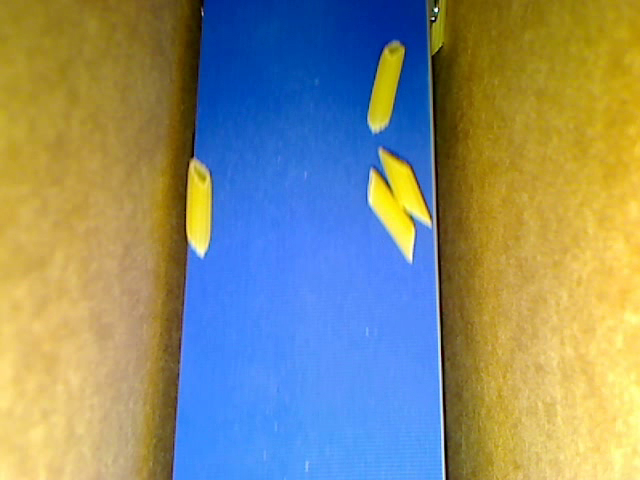penne: (380, 142, 435, 231), (365, 167, 413, 259), (364, 36, 401, 135), (185, 156, 213, 257), (426, 1, 448, 59)
